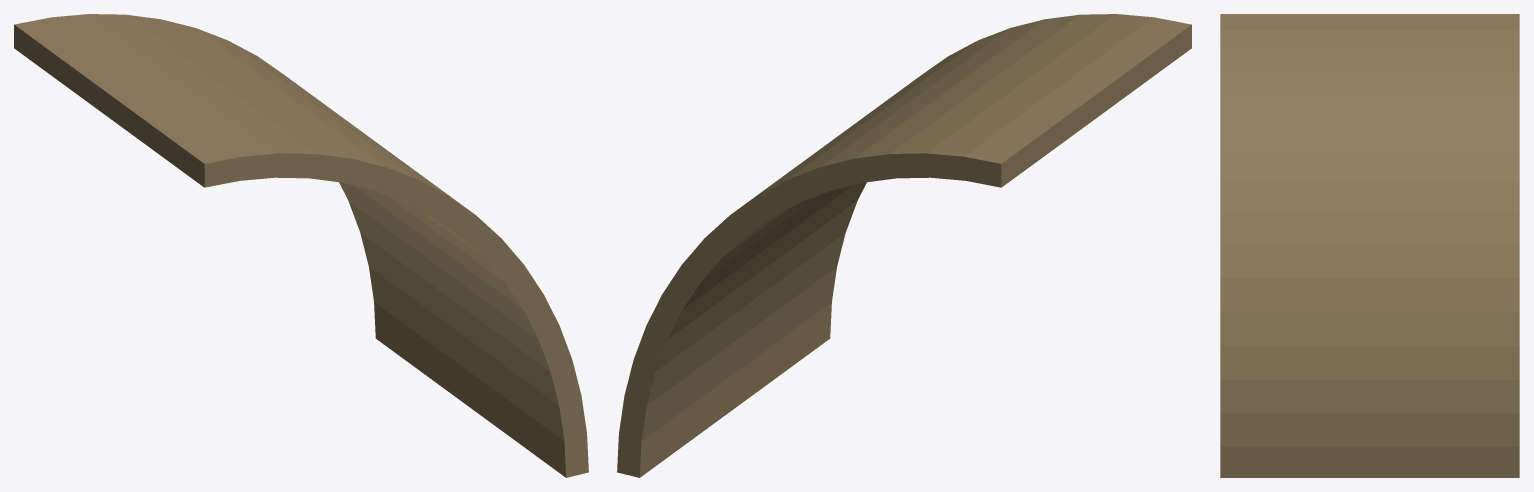
File: Wall_N4_Roof.fbx
3 renders of one model, left to right at view 1: azimuth 30°, elevation 25°; view 2: azimuth 150°, elevation 25°; view 3: azimuth 270°, elevation 25°, orthographic. The views are drawn at different scales.
Visible parts, largest first — view 1: Wall_N4_Roof; view 2: Wall_N4_Roof; view 3: Wall_N4_Roof.
Part boxes in pixels (<box>): Wall_N4_Roof: <box>14,14,588,477</box>; Wall_N4_Roof: <box>617,14,1191,477</box>; Wall_N4_Roof: <box>1220,14,1519,477</box>.
Bounding box in the file's own units: 375 × 375 × 322.
